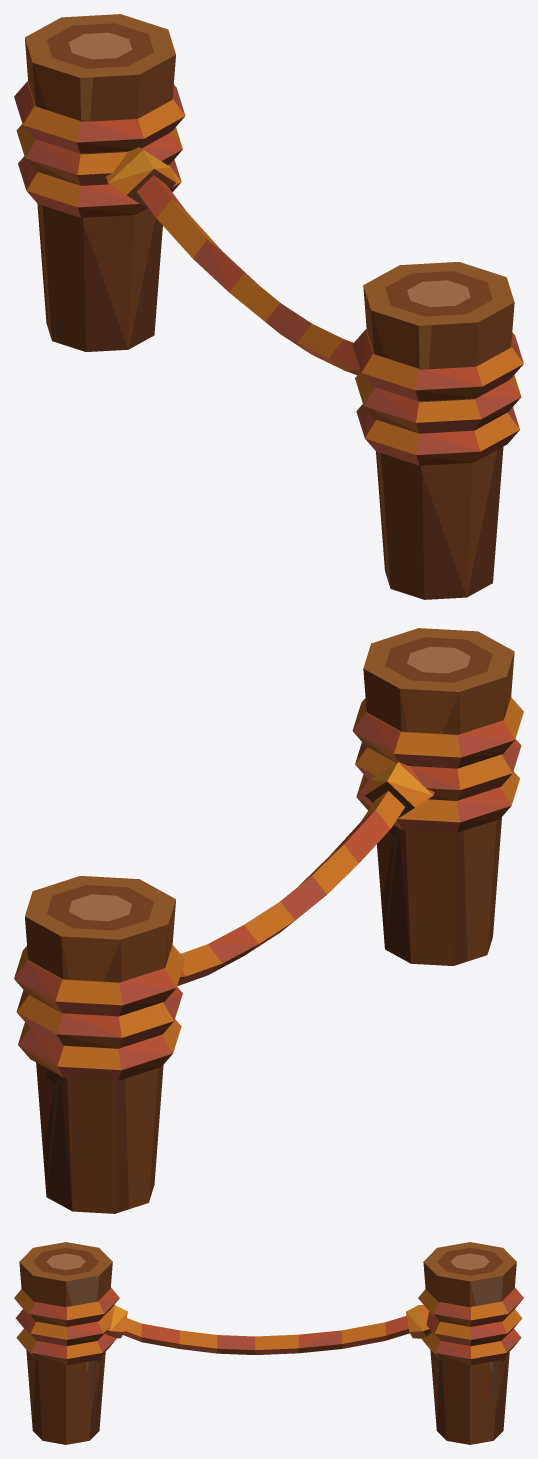
Rendered from itch_fishing_village_fence_rope2.glb.
The picture shows the model from 3 angles, top to bottom: view 1: azimuth 30°, elevation 25°; view 2: azimuth 150°, elevation 25°; view 3: azimuth 270°, elevation 25°; orthographic projection. The views are drawn at different scales.
Parts seen in each view (by area): view 1: fence_rope2.001; view 2: fence_rope2.001; view 3: fence_rope2.001.
Boxes of the visible parts, x1,y1,x2,y2 form: fence_rope2.001: (14,14,523,599); fence_rope2.001: (14,628,523,1213); fence_rope2.001: (14,1242,523,1444).
Size of the model in its own units: 0.2452 by 0.4316 by 1.18.
